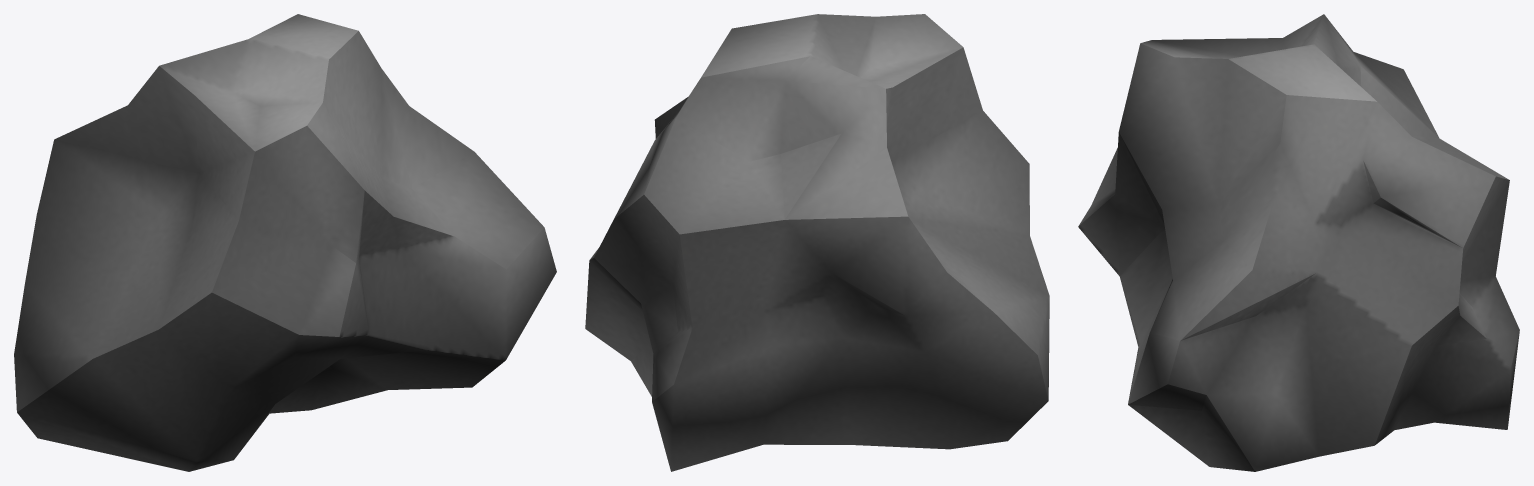
The model's file is kamien.gltf.
3 views of the same model, side by side, from view 1: azimuth 30°, elevation 25°; view 2: azimuth 150°, elevation 25°; view 3: azimuth 270°, elevation 25° (orthographic). The views are drawn at different scales.
Parts seen in each view (by area): view 1: Cube.002; view 2: Cube.002; view 3: Cube.002.
Boxes of the visible parts, box(x1,y1,x2,y2) form: Cube.002: box(14, 14, 556, 471); Cube.002: box(585, 14, 1049, 471); Cube.002: box(1078, 14, 1519, 471).
Bounding box in the file's own units: 1.18 × 0.8978 × 0.9811.
1 material, 1 textured.
